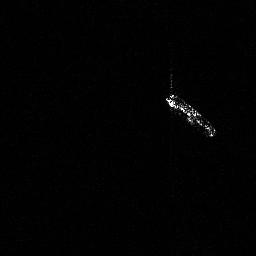ship: (162, 89, 219, 141)
